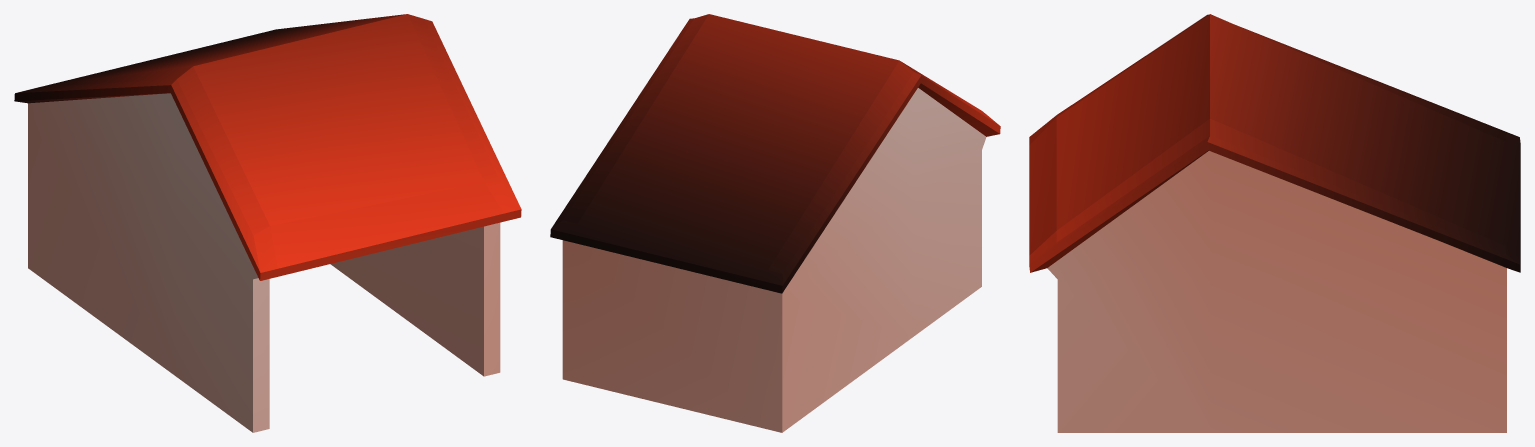
File: SM_Street_House_F1_ONLY_High_open.fbx
3 renders of one model, left to right at view 1: azimuth 30°, elevation 25°; view 2: azimuth 150°, elevation 25°; view 3: azimuth 270°, elevation 25°, orthographic. The views are drawn at different scales.
Parts seen in each view (by area): view 1: Street_House_F1_ONLY_High_open_mash.001; view 2: Street_House_F1_ONLY_High_open_mash.001; view 3: Street_House_F1_ONLY_High_open_mash.001.
Boxes of the visible parts, x1=… form: Street_House_F1_ONLY_High_open_mash.001: x1=14, y1=14, x2=521, y2=432; Street_House_F1_ONLY_High_open_mash.001: x1=550, y1=14, x2=1000, y2=432; Street_House_F1_ONLY_High_open_mash.001: x1=1029, y1=14, x2=1520, y2=432.
Size of the model in its own units: 4.22 by 4.74 by 6.89.
